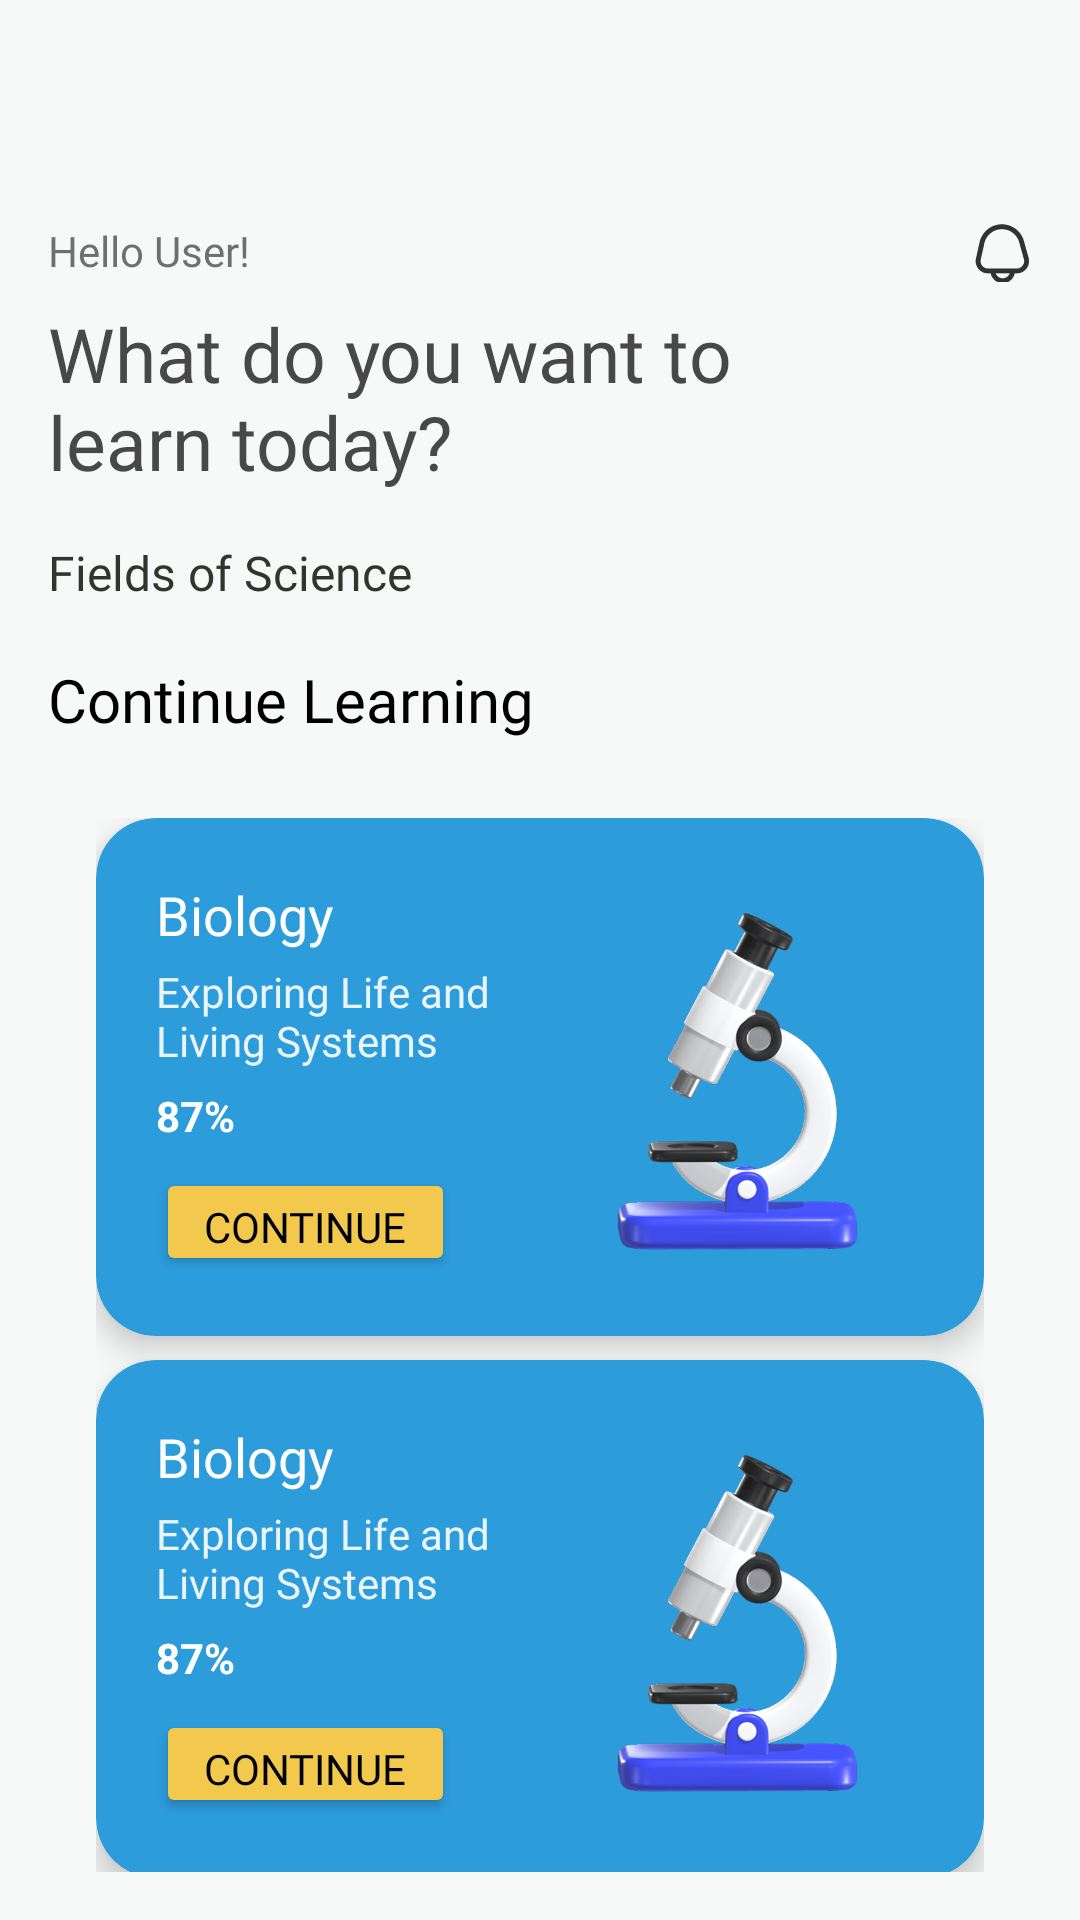

Icons on this 1080px×1920px Android screen, each with its box as (x1, y1, x2, y2):
bell: (975, 224, 1029, 282)
microscope: (618, 913, 857, 1250), (618, 1455, 857, 1792)
